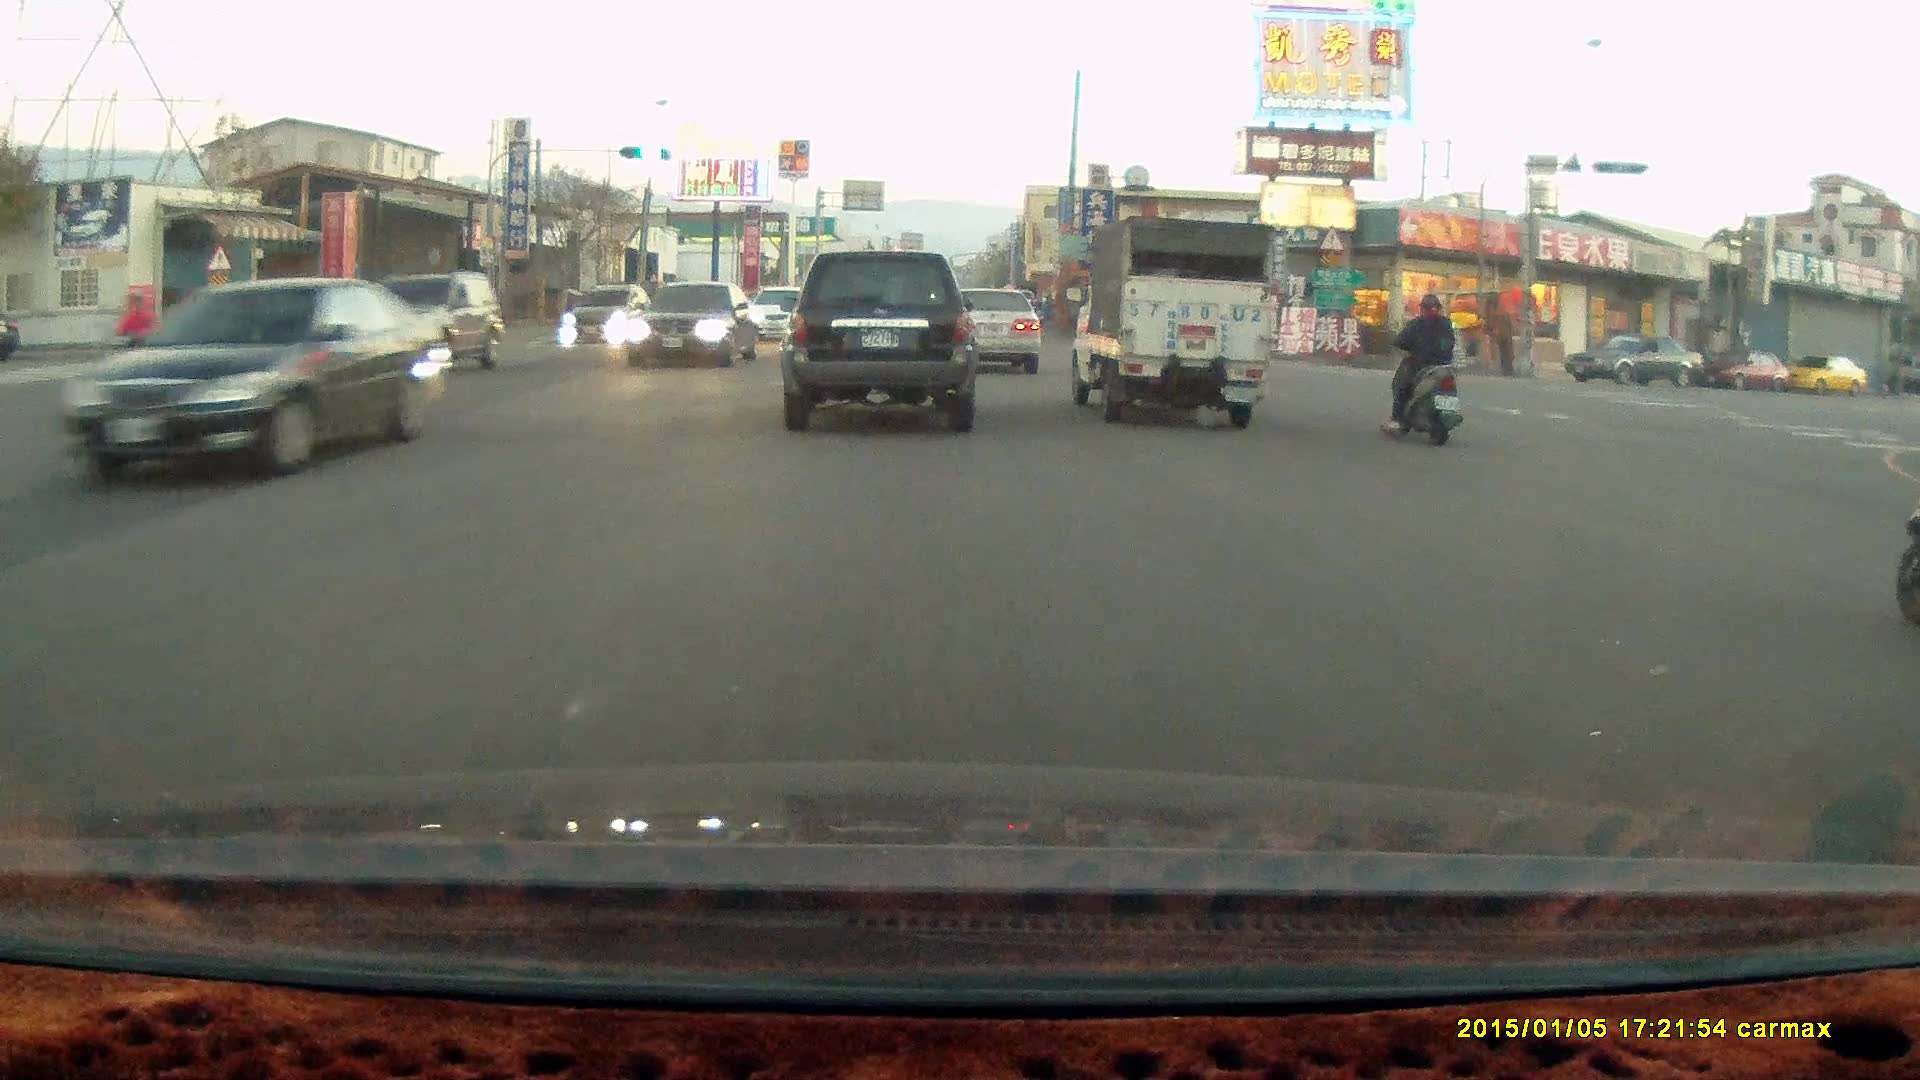rider: (1382, 292, 1461, 448)
vehicle: (63, 284, 451, 492), (1063, 213, 1279, 429), (779, 249, 977, 435), (627, 285, 764, 374), (929, 284, 1042, 376), (943, 288, 1045, 377), (1563, 333, 1710, 390), (567, 285, 651, 347), (353, 291, 464, 338), (1778, 356, 1870, 399), (1704, 351, 1793, 391)
